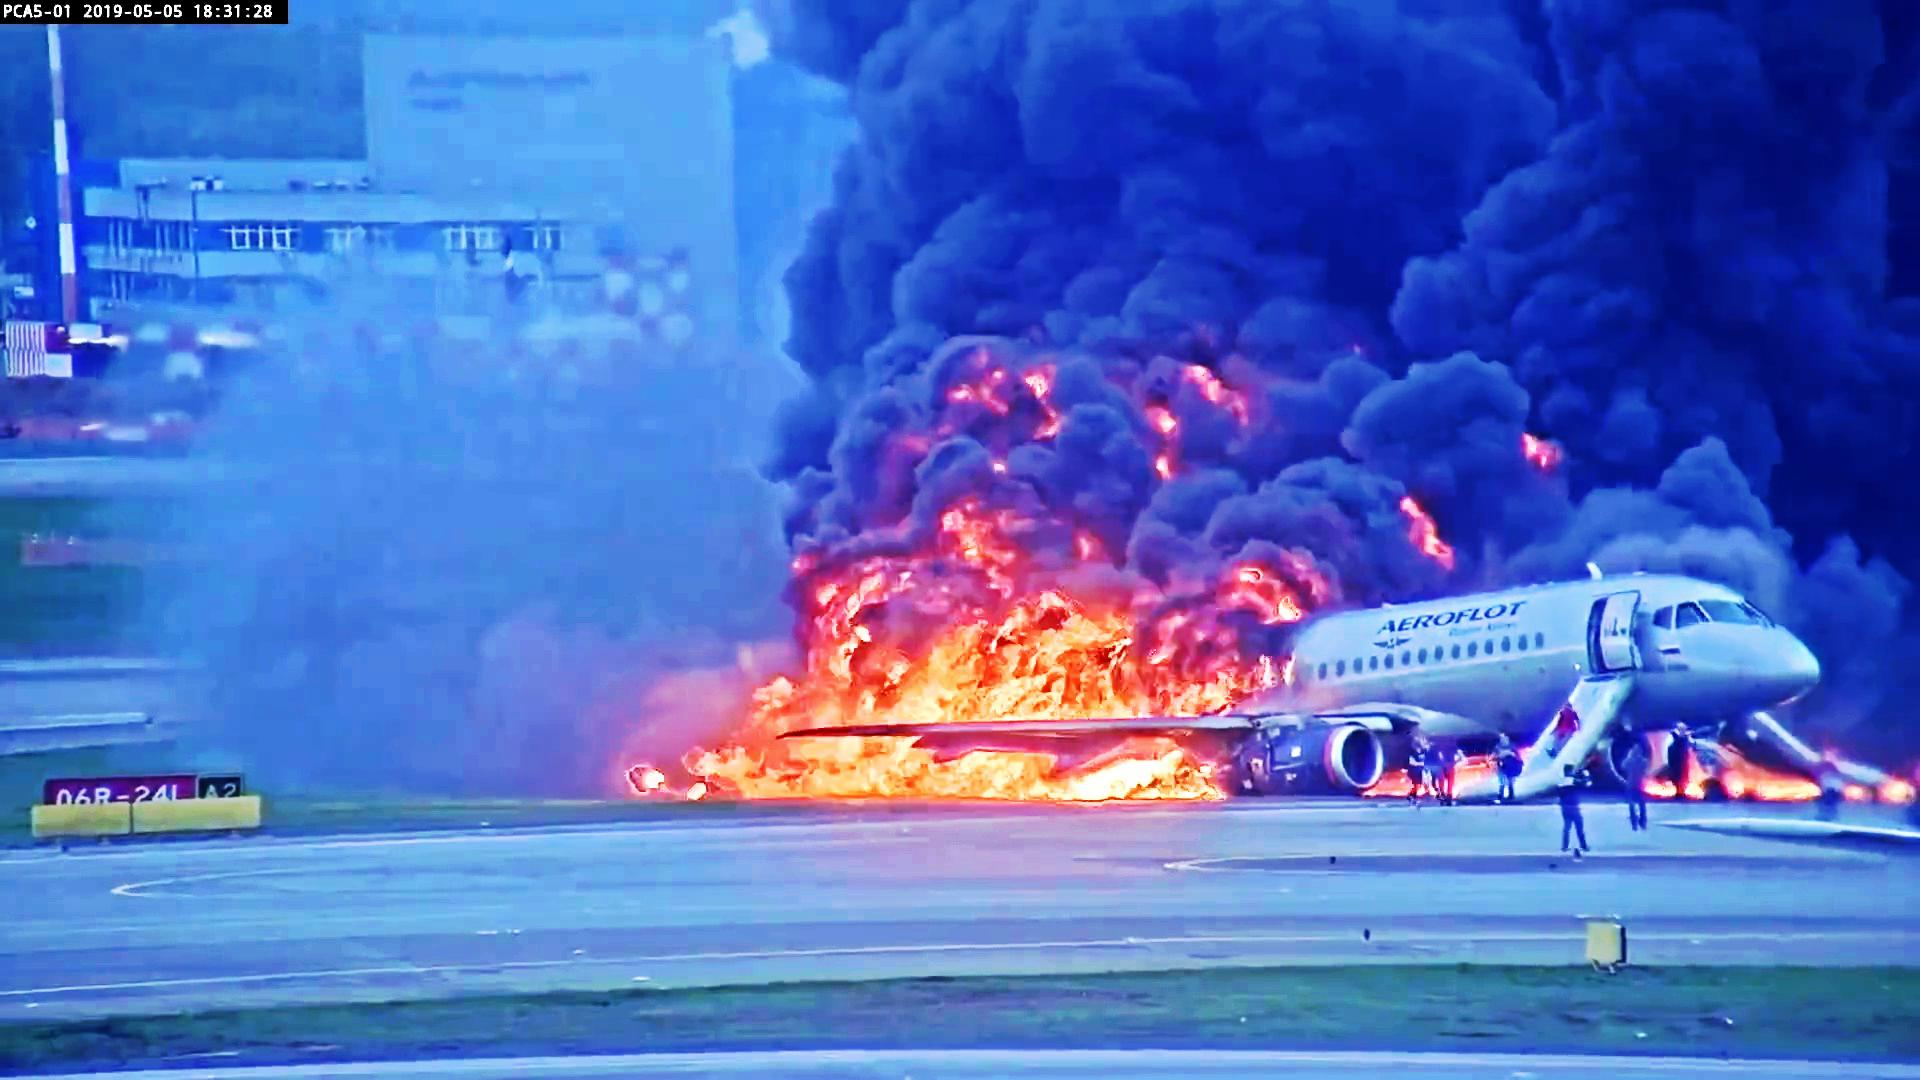fire: (808, 608, 1283, 700), (767, 746, 1191, 793)
smoke: (886, 3, 1920, 483)
